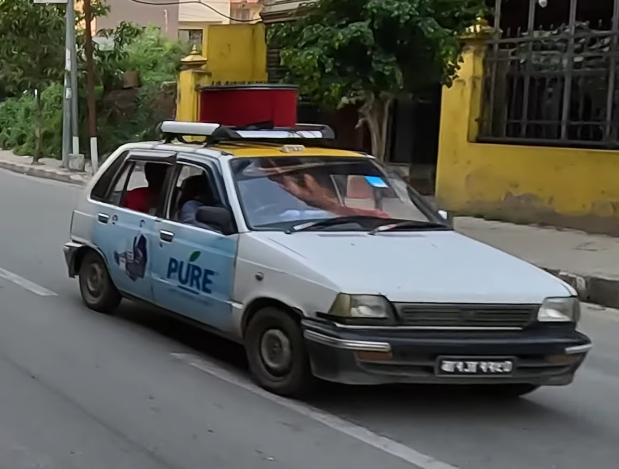taxi: (64, 91, 594, 411)
